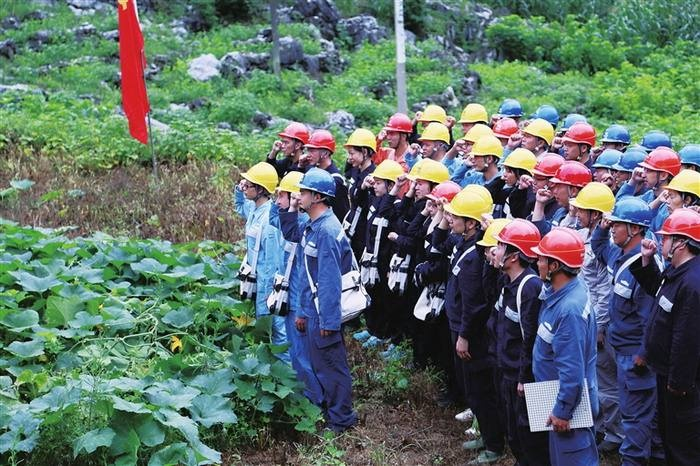blue: (609, 195, 652, 249), (297, 168, 337, 214), (591, 146, 620, 184), (614, 153, 644, 187)
red: (491, 221, 542, 272), (534, 227, 583, 278), (658, 210, 697, 260), (550, 162, 591, 205), (642, 147, 682, 190), (561, 123, 595, 164), (304, 131, 337, 167), (428, 181, 460, 216), (532, 155, 562, 191), (277, 123, 308, 157), (383, 113, 412, 149)
yellow: (571, 180, 614, 228), (447, 188, 487, 238), (240, 159, 277, 203), (665, 169, 700, 214), (416, 119, 453, 159), (470, 136, 504, 175), (345, 127, 377, 168), (501, 149, 537, 185), (518, 118, 554, 153), (410, 159, 443, 197), (371, 158, 402, 195), (275, 170, 302, 209), (458, 101, 487, 133)
